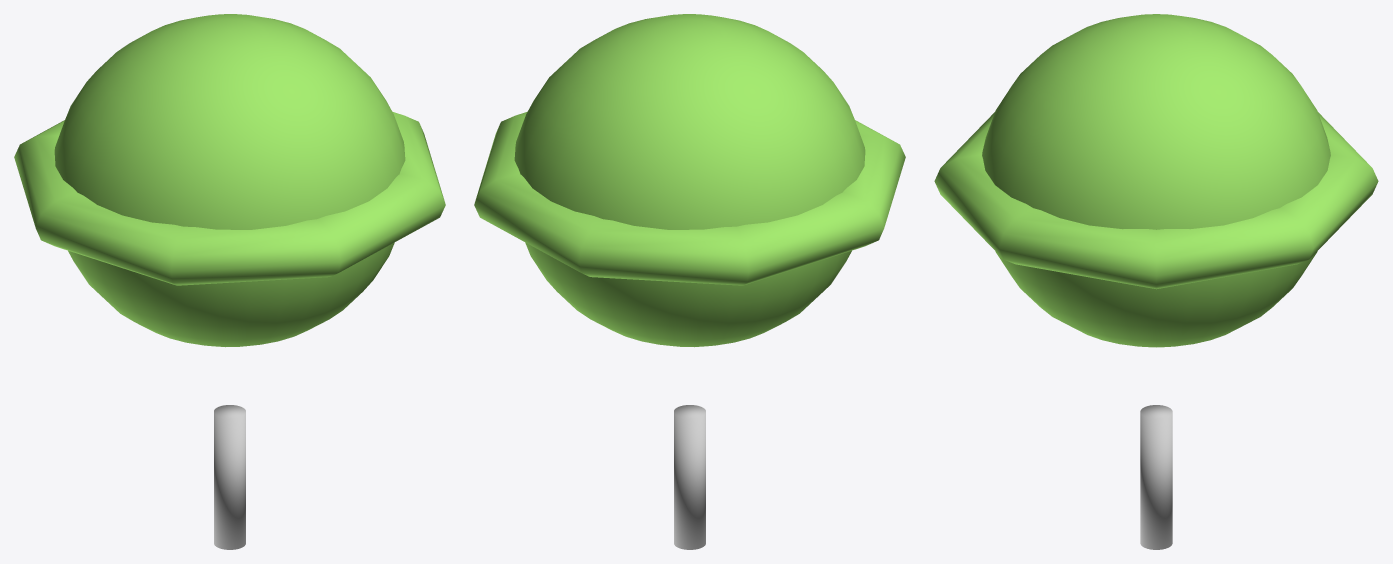
The model's file is greenball.fbx.
The picture shows the model from 3 angles, left to right: view 1: azimuth 30°, elevation 25°; view 2: azimuth 150°, elevation 25°; view 3: azimuth 270°, elevation 25°; orthographic projection.
Parts seen in each view (by area): view 1: Sphere, Cylinder; view 2: Sphere, Cylinder; view 3: Sphere, Cylinder.
Boxes of the visible parts, bbox=[...] form: Sphere: bbox=[14, 14, 445, 347]; Cylinder: bbox=[214, 405, 245, 549]; Sphere: bbox=[474, 14, 905, 347]; Cylinder: bbox=[674, 405, 705, 549]; Sphere: bbox=[934, 14, 1378, 347]; Cylinder: bbox=[1140, 405, 1172, 549].
Size of the model in its own units: 874 by 1100 by 866.
